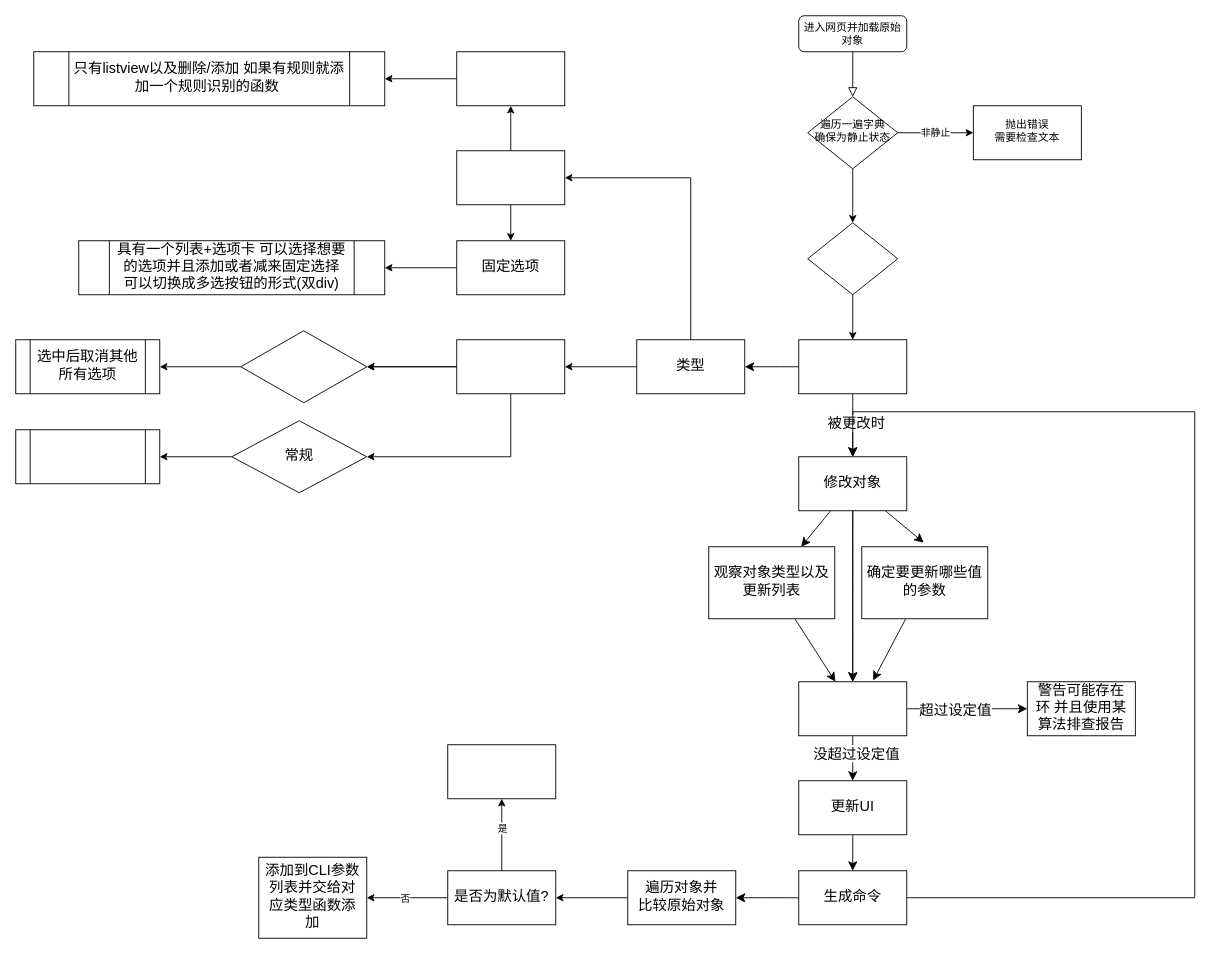
This 1220x954 diagram has some shape labels left out. The box of each missing label's shape, as (x1, y1, x2, y2) in pixels:
bool: (456, 339, 565, 394)
不为默认值时 最终命令包含该参数: (15, 429, 160, 484)
多项: (456, 150, 565, 205)
更新值并递归 直到列表重新静止 进行计数: (798, 681, 907, 736)
独立选项: (240, 330, 367, 403)
生成UI: (798, 339, 907, 394)
等待Html加载 预处理所需信息: (807, 222, 898, 295)
自由添加: (456, 51, 565, 106)
跳过该选项: (447, 744, 556, 799)
